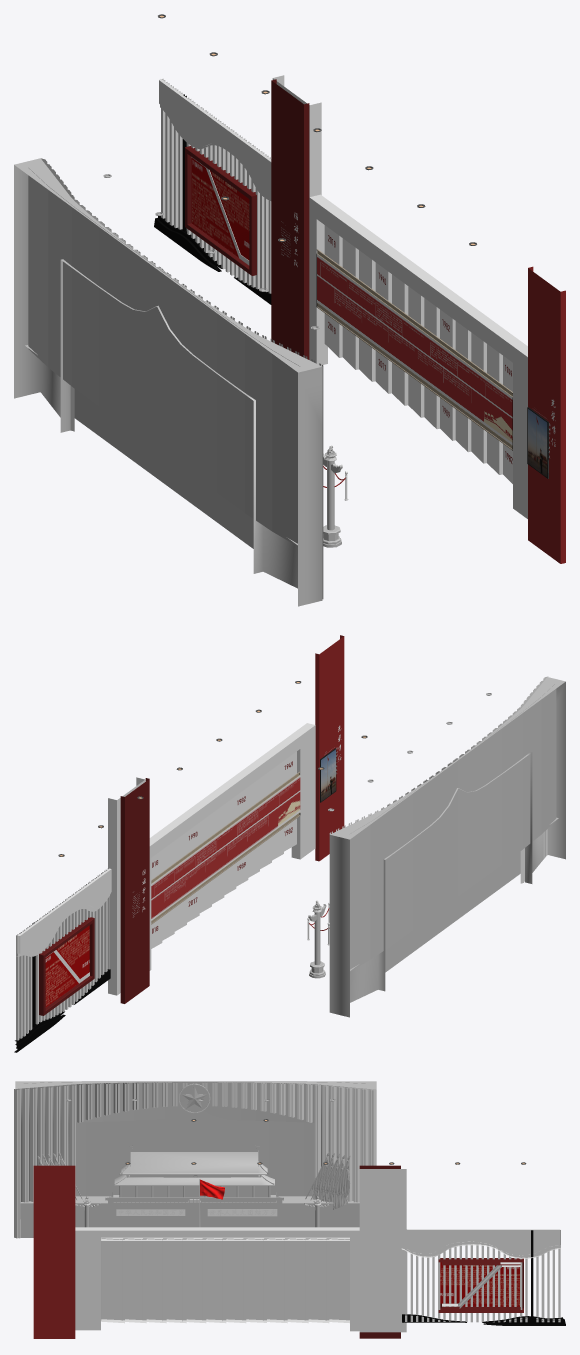
Rendered from 辉煌战绩压.fbx.
3 renders of one model, top to bottom at view 1: azimuth 30°, elevation 25°; view 2: azimuth 150°, elevation 25°; view 3: azimuth 270°, elevation 25°, orthographic. The views are drawn at different scales.
Parts seen in each view (by area): view 1: polySurface3869, polySurface5430, pasted__Plane001, polySurface4460, polySurface3669, polySurface3918; view 2: polySurface3869, polySurface5430, pasted__Plane001, polySurface4460, polySurface3669, polySurface3918, polySurface4564; view 3: polySurface5430, polySurface3869, polySurface3870, polySurface4460, polySurface3669, polySurface5429, polySurface4573, polySurface3918, polySurface5423.
Part boxes in pixels (box(x1,y1,x2,y2)): polySurface3869: box(14, 158, 323, 606); polySurface5430: box(154, 75, 565, 563); pasted__Plane001: box(317, 254, 512, 445); polySurface4460: box(25, 345, 297, 548); polySurface3669: box(191, 158, 249, 260); polySurface3918: box(323, 445, 342, 547); polySurface3869: box(329, 676, 565, 1017); polySurface5430: box(14, 635, 344, 1052); pasted__Plane001: box(151, 775, 300, 920); polySurface4460: box(350, 817, 558, 972); polySurface3669: box(45, 925, 89, 1007); polySurface3918: box(308, 900, 326, 978); polySurface4564: box(132, 725, 341, 933); polySurface5430: box(33, 1165, 565, 1338); polySurface3869: box(14, 1081, 376, 1238); polySurface3870: box(105, 1145, 283, 1227); polySurface4460: box(20, 1196, 359, 1237); polySurface3669: box(440, 1262, 519, 1306); polySurface5429: box(37, 1152, 350, 1209); polySurface4573: box(116, 1209, 277, 1216); polySurface3918: box(75, 1195, 330, 1227); polySurface5423: box(199, 1179, 224, 1227).
Bounding box in the file's own units: 14.14 × 12.23 × 35.33.
